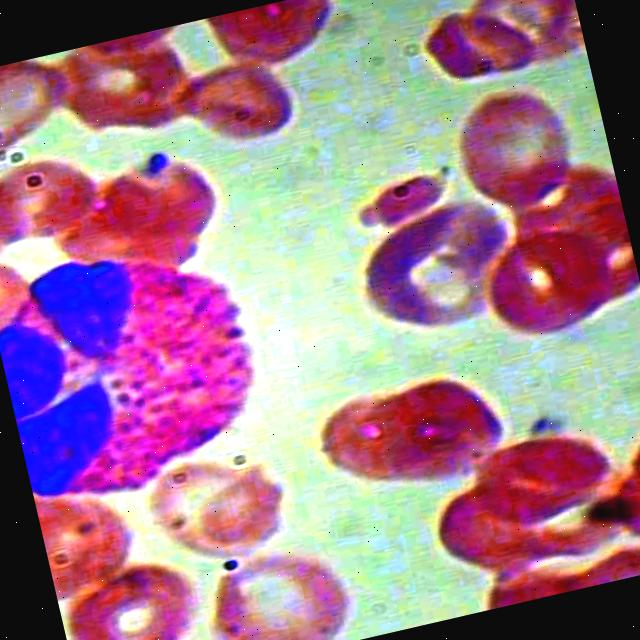RBC: (448, 78, 592, 228), (186, 525, 366, 640), (146, 446, 302, 574), (476, 219, 622, 354), (468, 421, 626, 542), (171, 44, 312, 160), (409, 0, 550, 109), (54, 551, 216, 640), (0, 143, 115, 262)
WBC: (0, 214, 294, 515)
